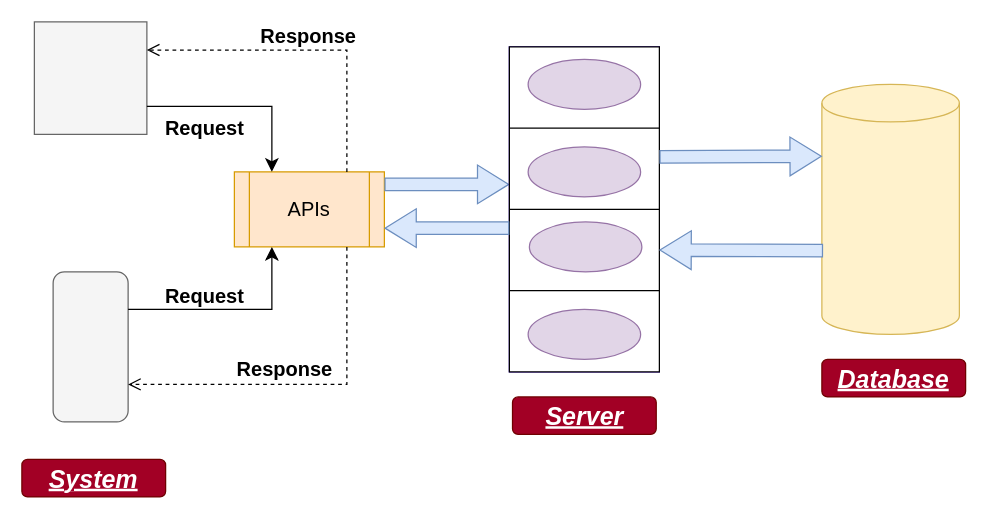
This 988x519 diagram has some shape labels left out. The centre of each missing label's shape, as x and y in pixels:
"Computer" belongs at (x=90, y=77).
"Mobile" belongs at (x=90, y=346).
